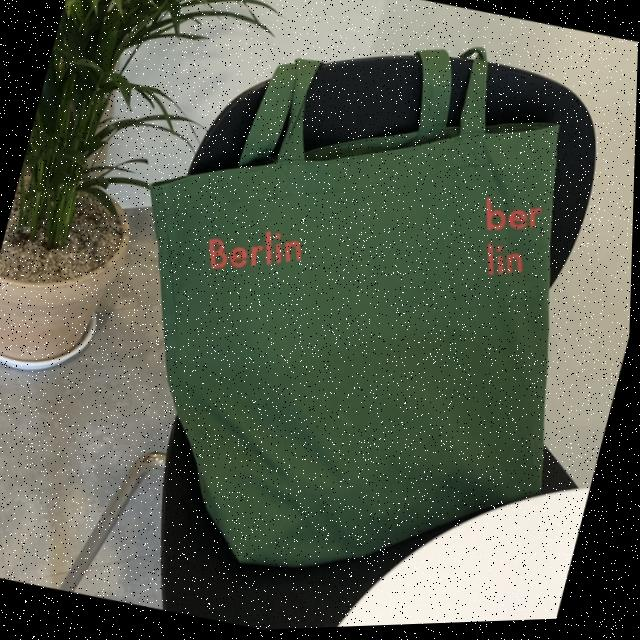ecobag: (46, 0, 640, 638)
